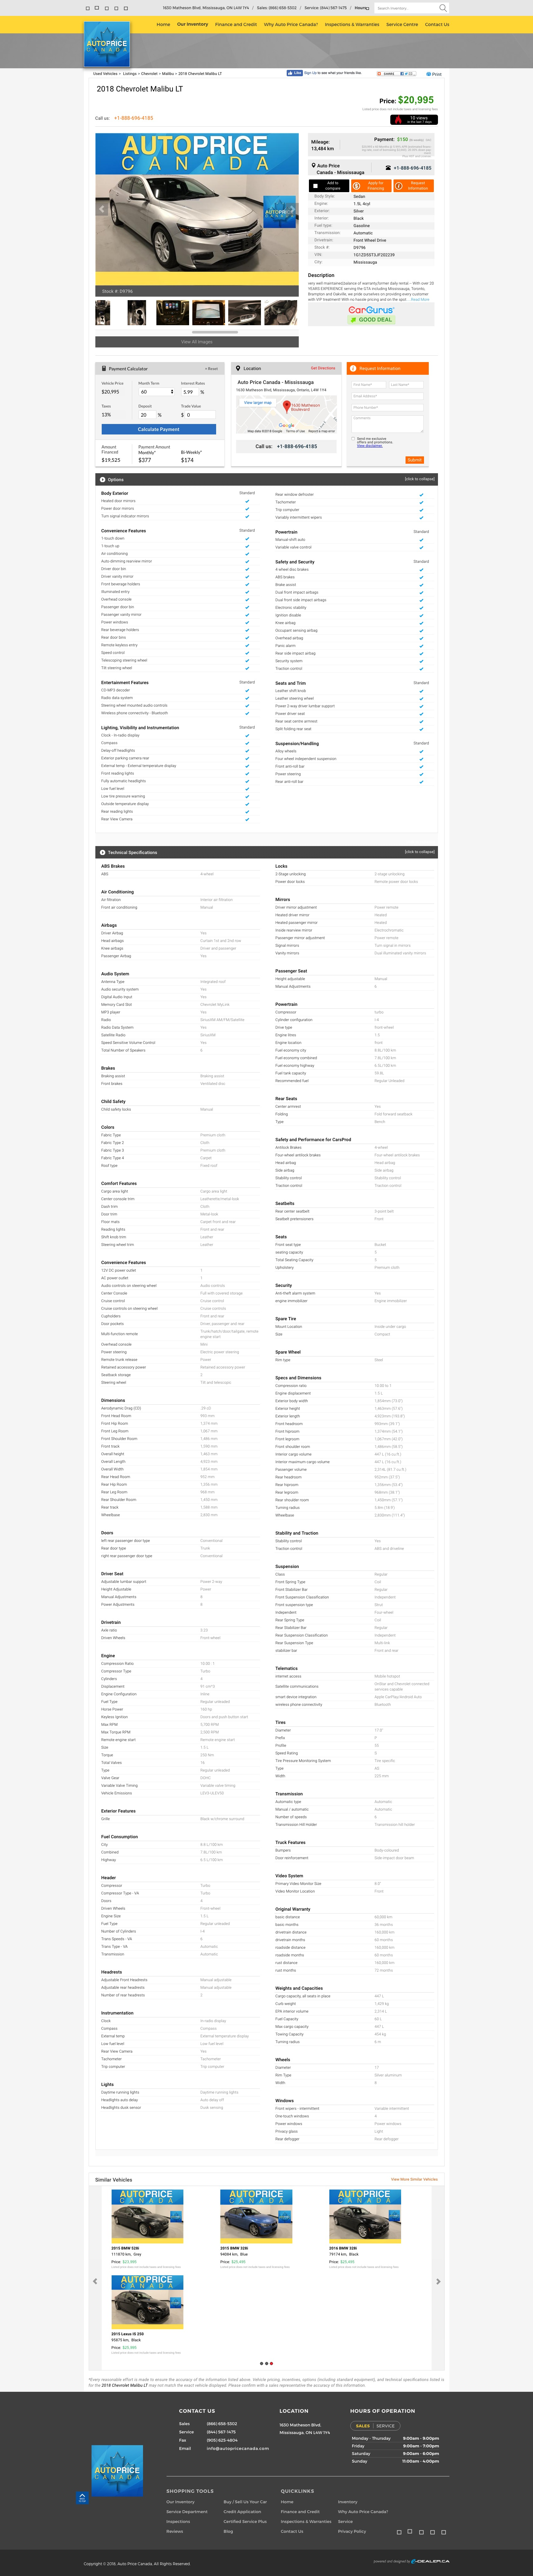car: (285, 204, 299, 220)
